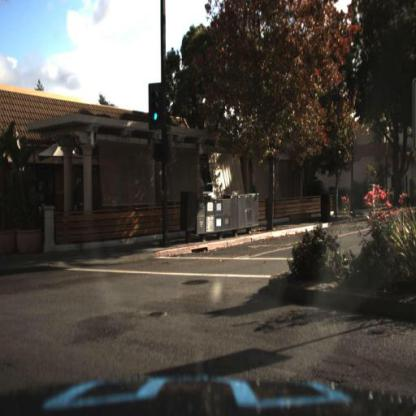trafficLight-Green: (149, 85, 165, 131), (150, 87, 162, 129)
